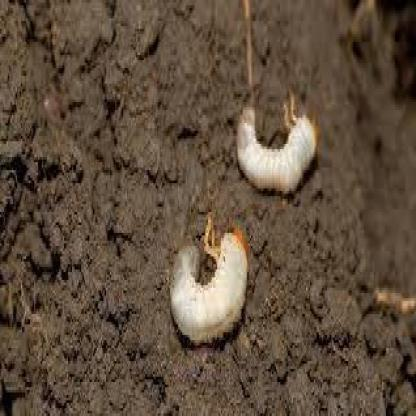root grubs: (169, 222, 249, 348), (234, 99, 321, 194)
